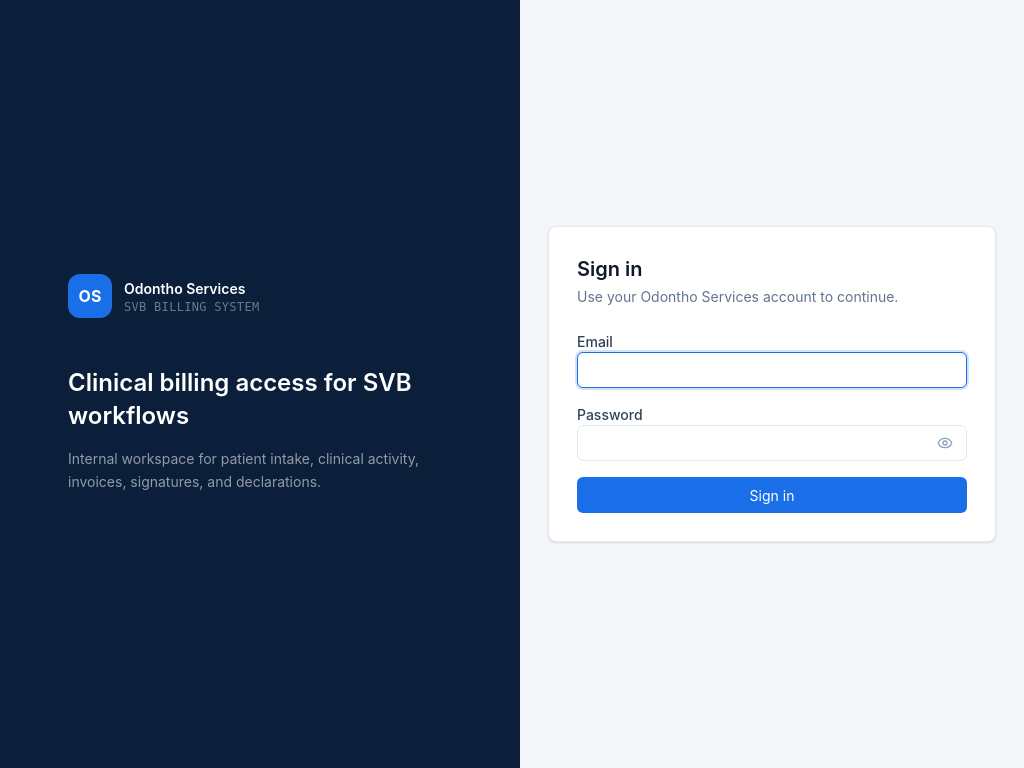
Test: authentication integration › validates required login fields
Step 1. Click the button "Sign in" → (772, 495), box [577, 477, 967, 513]
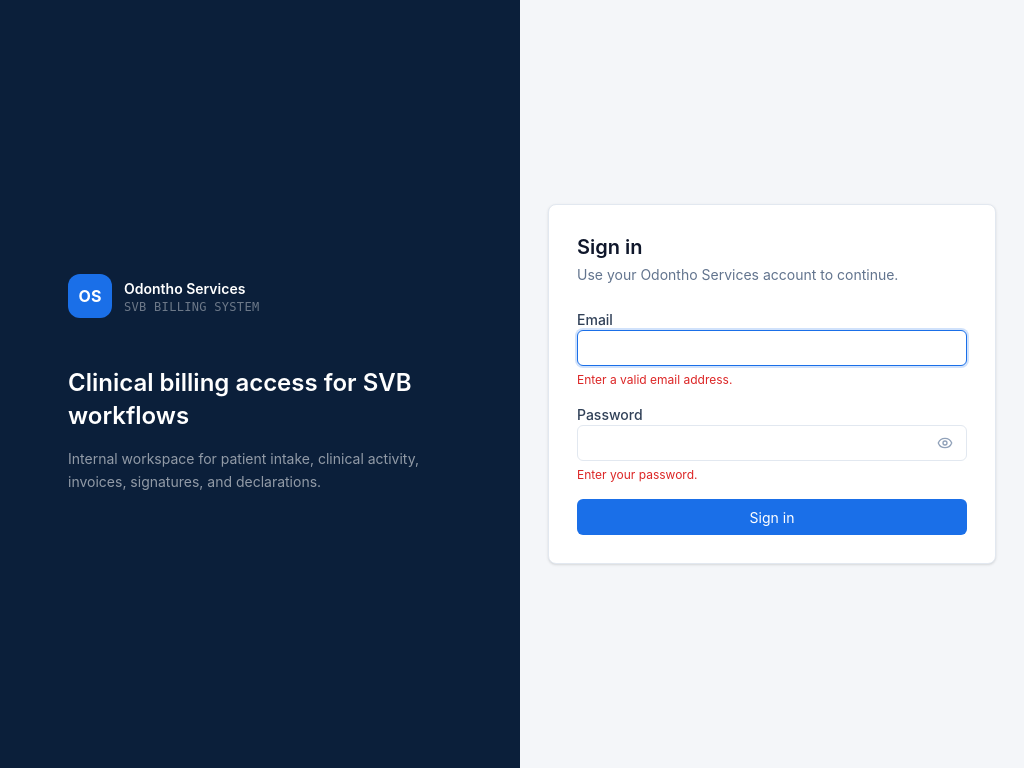
Expected: the text "Enter a valid email address." is shown, [577, 372, 732, 387]
Expected: the text "Enter your password." is shown, [577, 467, 698, 482]
